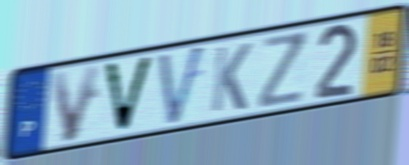2: (313, 21, 358, 100)
K: (209, 40, 254, 115)
V: (48, 60, 104, 146), (156, 41, 209, 130), (100, 54, 156, 136)
Z: (257, 28, 309, 112)
